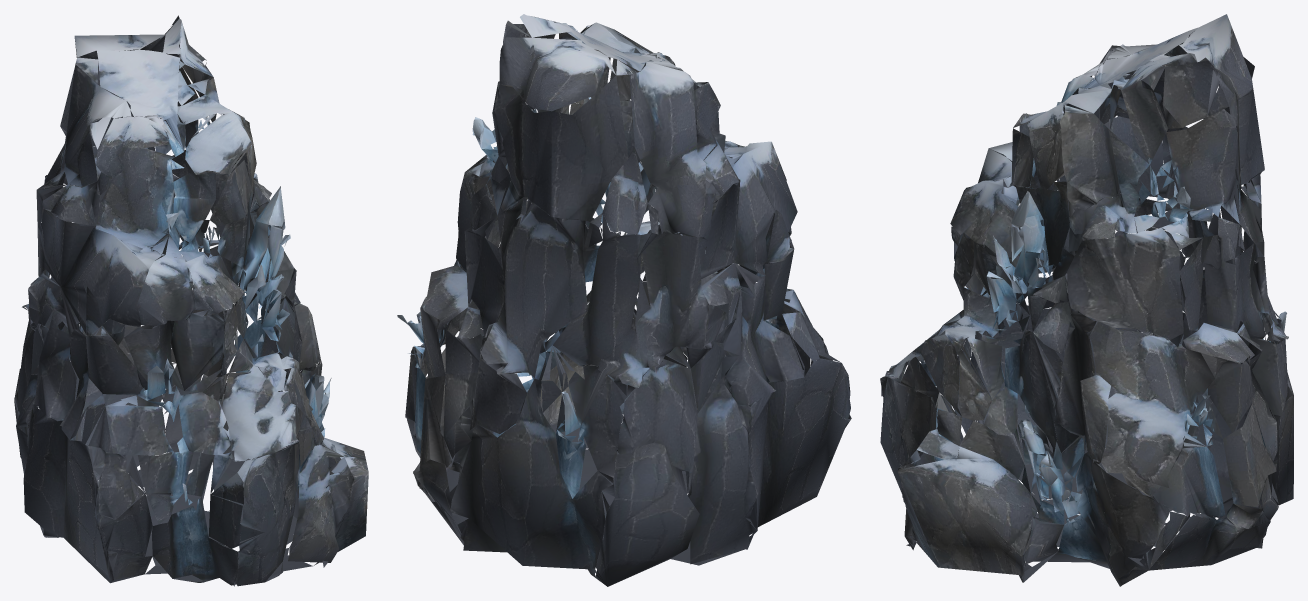
Rendered from IceCrag.fbx.
3 renders of one model, left to right at view 1: azimuth 30°, elevation 25°; view 2: azimuth 150°, elevation 25°; view 3: azimuth 270°, elevation 25°, orthographic. The views are drawn at different scales.
Parts seen in each view (by area): view 1: IceCrag_Body; view 2: IceCrag_Body; view 3: IceCrag_Body.
Boxes of the visible parts, x1,y1,x2,y2 form: IceCrag_Body: (14, 15, 368, 586); IceCrag_Body: (397, 14, 851, 586); IceCrag_Body: (880, 14, 1293, 586).
Size of the model in its own units: 0.675 by 1 by 0.7452.
1 material, 1 textured.
